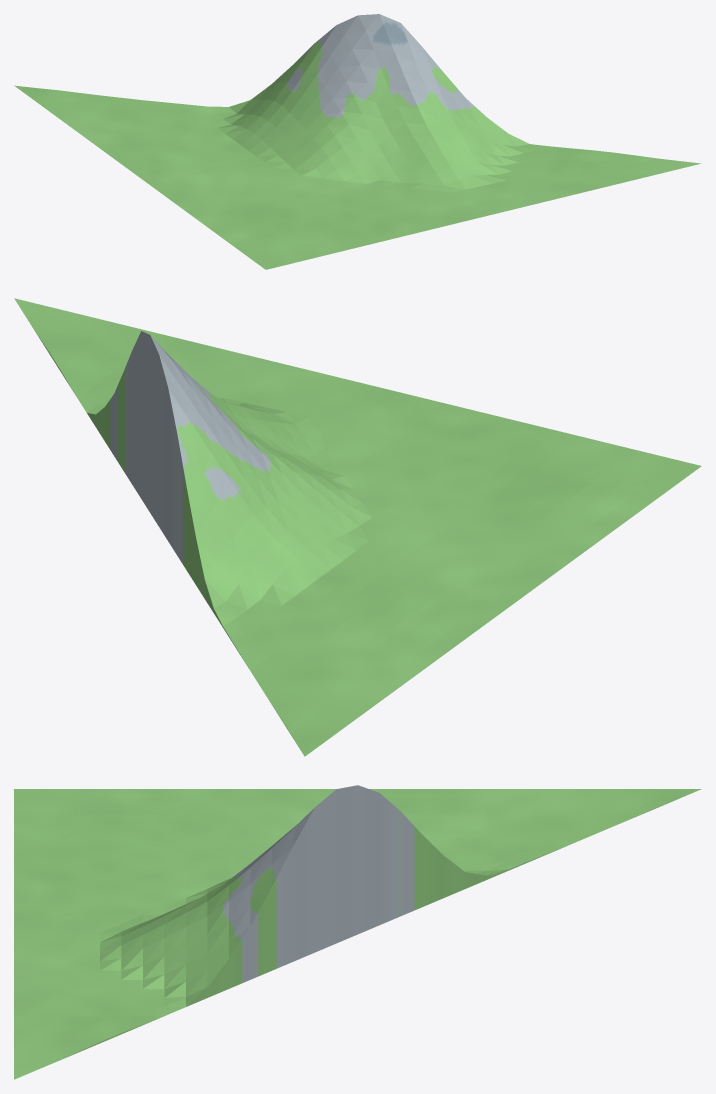
The model's file is Grass_RockyMountains_01_NW.obj.
The picture shows the model from 3 angles, top to bottom: view 1: azimuth 30°, elevation 25°; view 2: azimuth 150°, elevation 25°; view 3: azimuth 270°, elevation 25°; orthographic projection. The views are drawn at different scales.
Bounding box in the file's own units: 10 × 2.48 × 10.
Materials: 1 (1 with a texture image).
